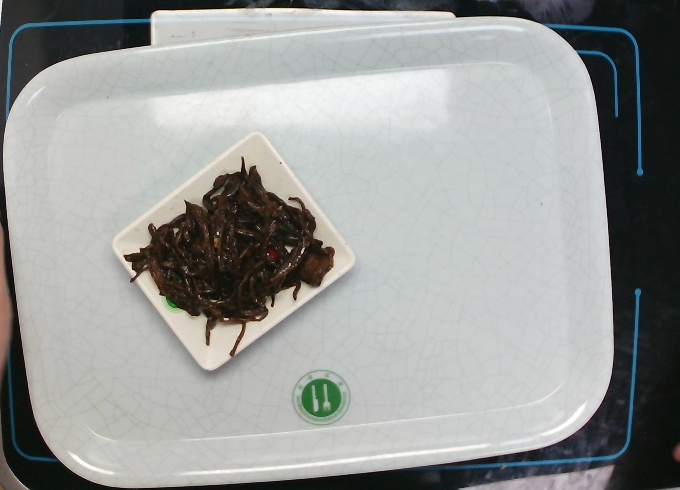WCQzf-Bai_Se_Si_Fang_Die: (105, 119, 351, 377)
